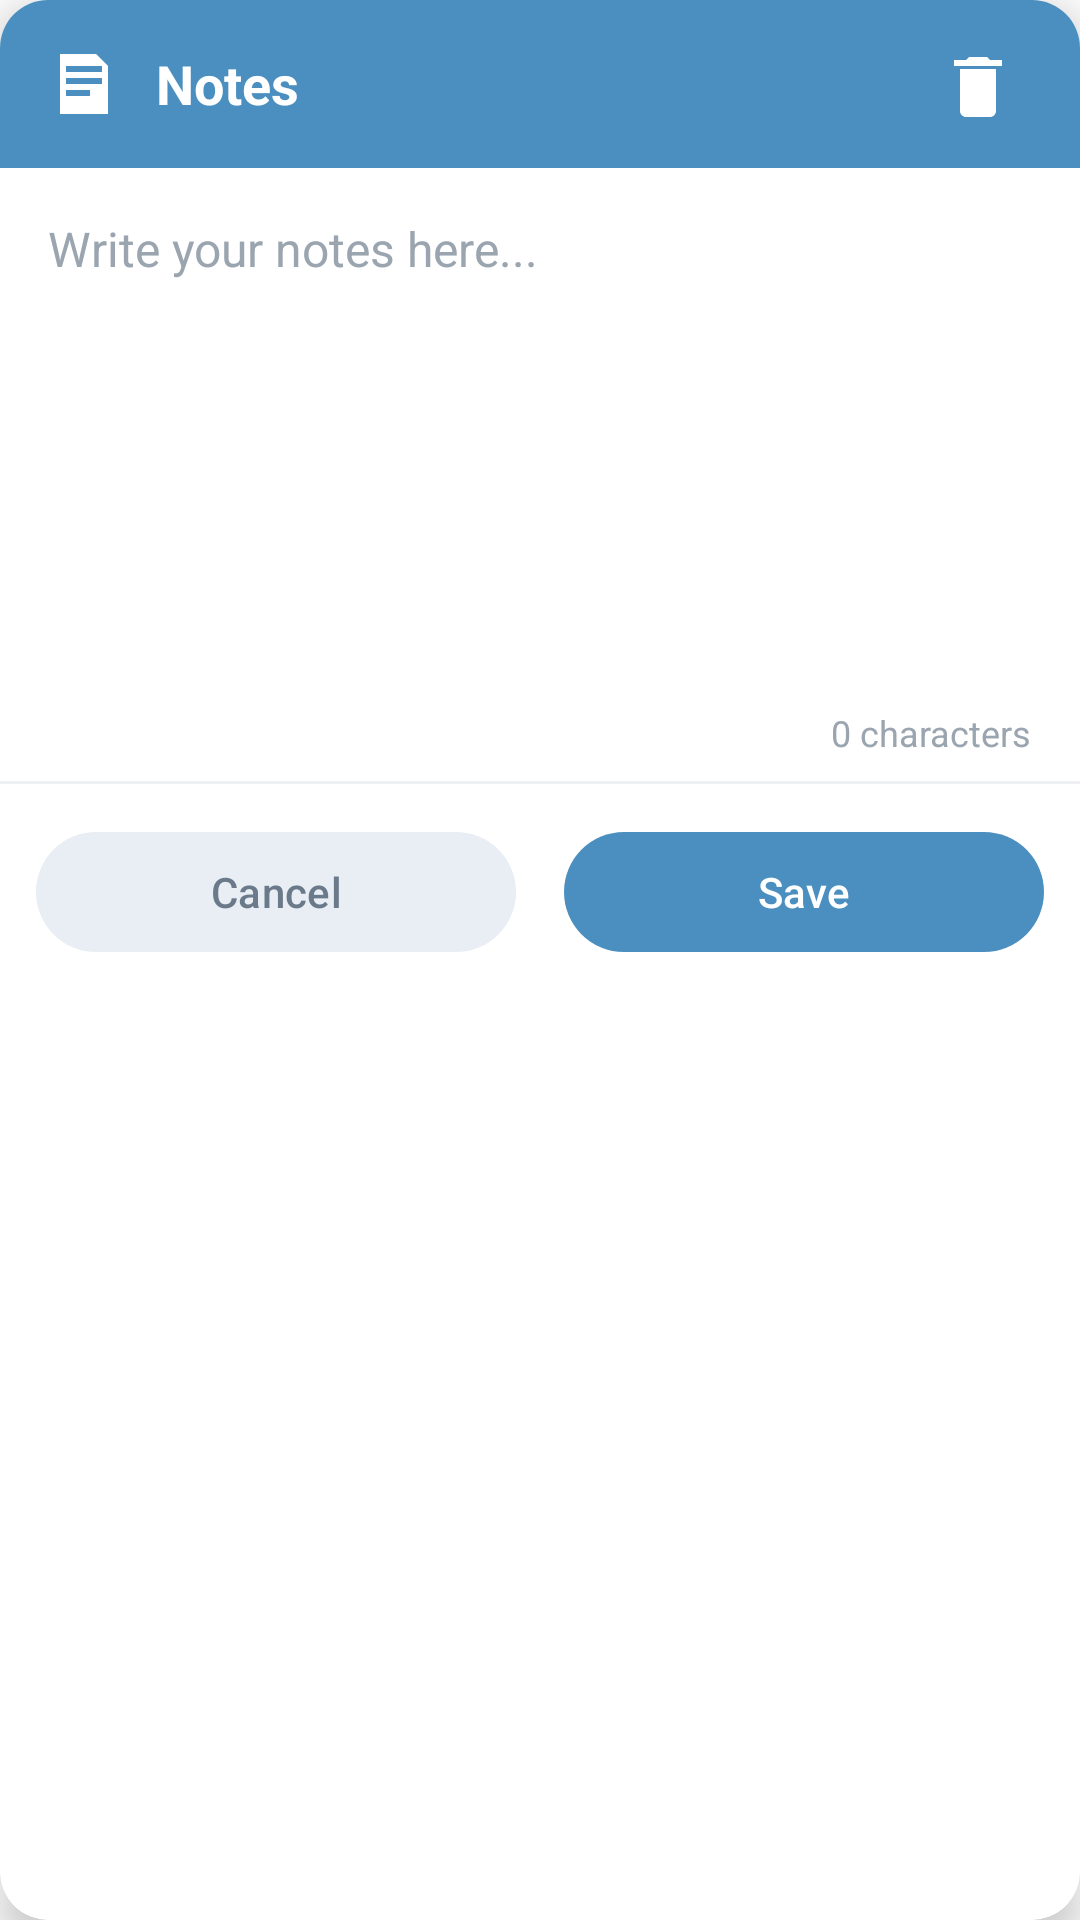

Icon click points for this 1080 x 1920 phone screenshot, format [x,y]:
Clear: [978,87]
